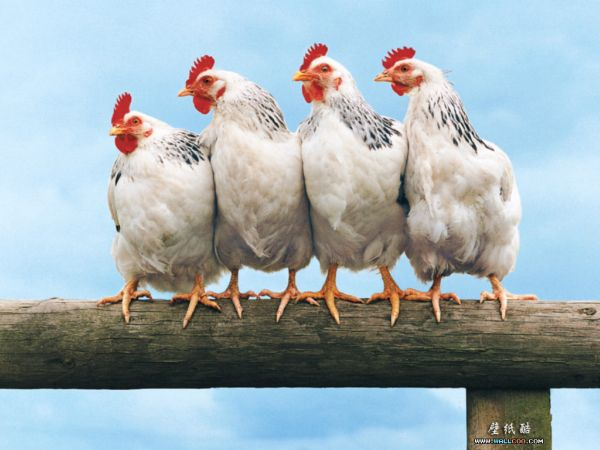chicken: (372, 43, 541, 326), (173, 52, 322, 324), (292, 40, 416, 330), (94, 89, 226, 328)
